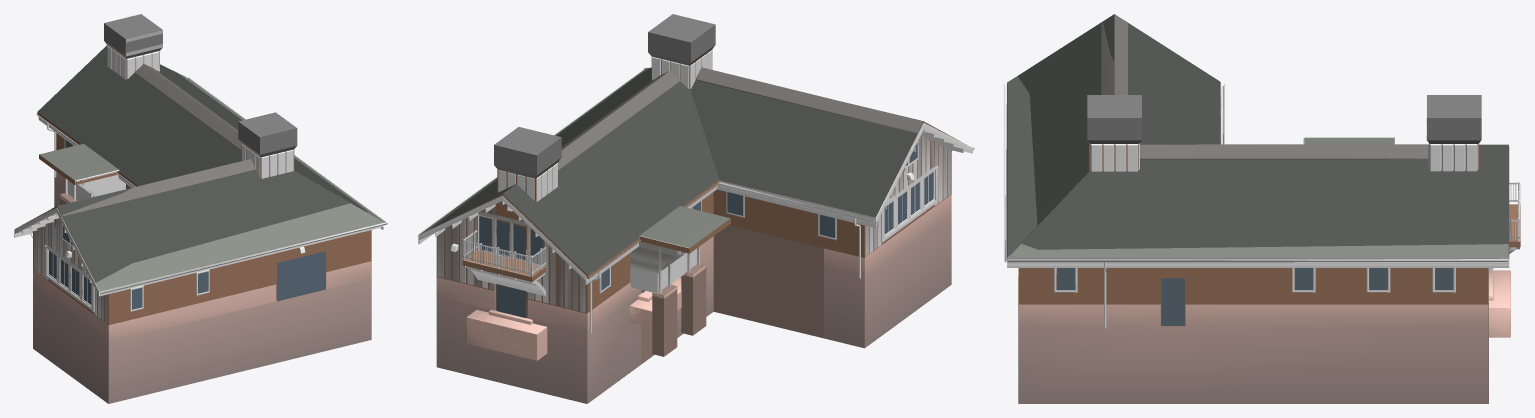
The model's file is ranger_station.dae.
3 renders of one model, left to right at view 1: azimuth 30°, elevation 25°; view 2: azimuth 150°, elevation 25°; view 3: azimuth 270°, elevation 25°, orthographic. The views are drawn at different scales.
Visible parts, largest first — view 1: ranger_station_a600, ranger_station_a150, ranger_station_a300, Colmesh-1; view 2: ranger_station_a150, ranger_station_a600, Colmesh-1, ranger_station_a300; view 3: ranger_station_a150, ranger_station_a600, ranger_station_a300, Colmesh-1.
Boxes of the visible parts, x1,y1,x2,y2 form: ranger_station_a600: (14,30,387,403); ranger_station_a150: (17,14,381,403); ranger_station_a300: (14,30,387,403); Colmesh-1: (68,174,125,200); ranger_station_a150: (420,14,966,403); ranger_station_a600: (416,50,974,403); Colmesh-1: (466,241,705,359); ranger_station_a300: (416,67,974,347); ranger_station_a150: (1009,14,1520,403); ranger_station_a600: (1003,15,1520,403); ranger_station_a300: (1004,82,1519,403); Colmesh-1: (1489,247,1516,337).
Size of the model in its own units: 17.48 by 21.53 by 11.85.
